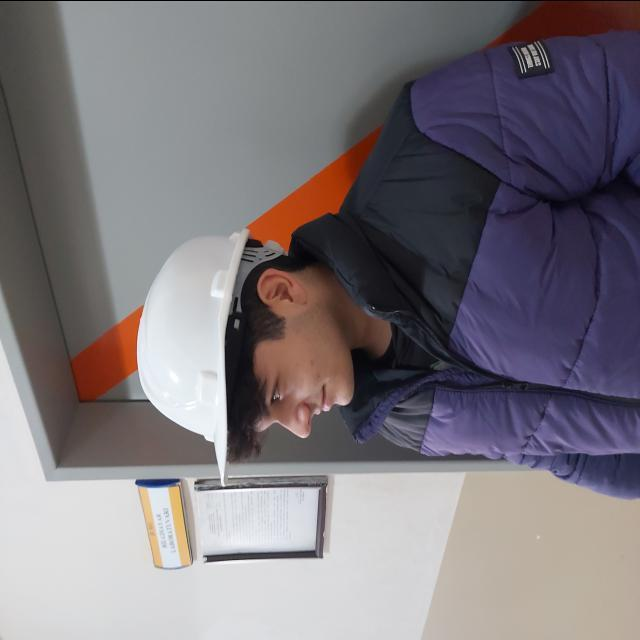helmet: (138, 229, 248, 481)
